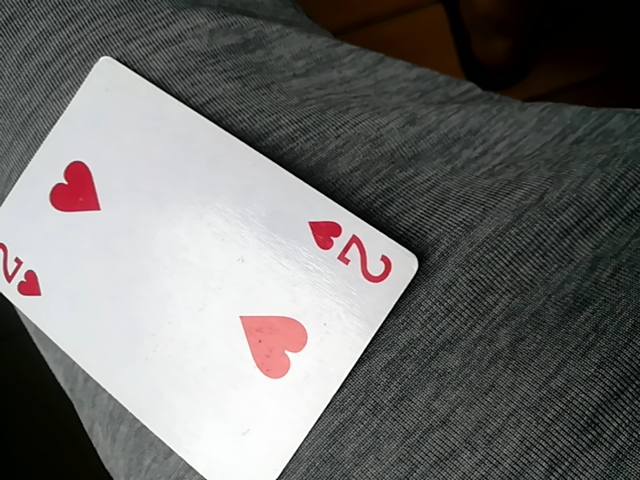hx 2: (6, 54, 426, 479)
